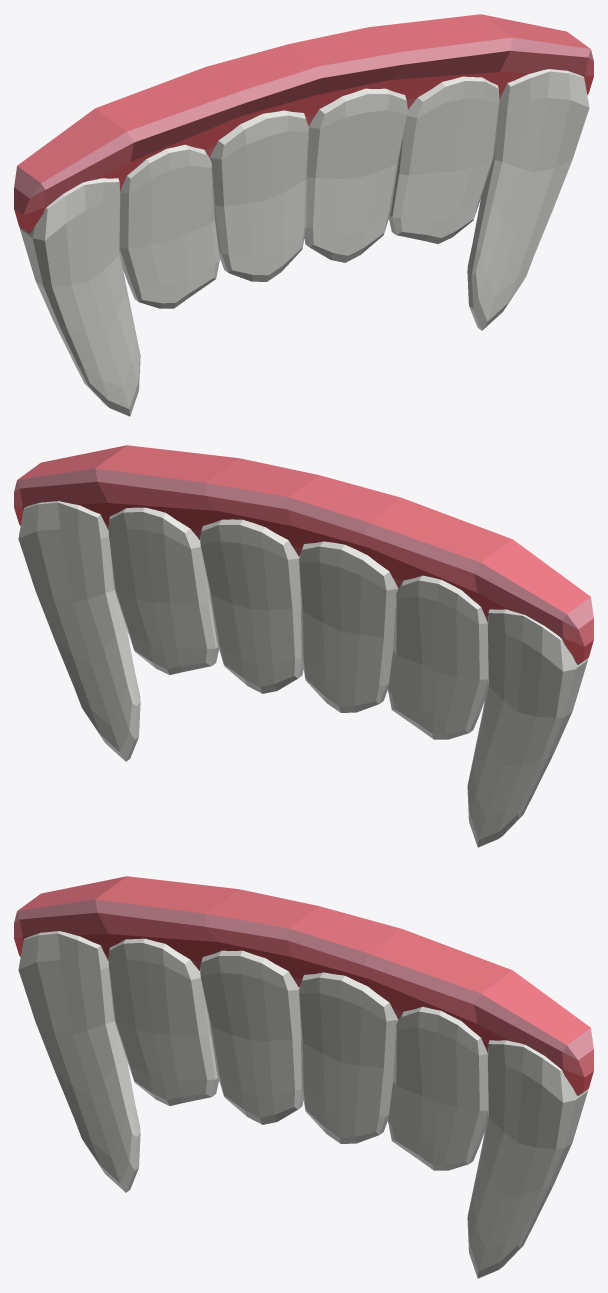
File: WF_LP_HT_Props_Candy.002.fbx
3 views of the same model, one above another, from view 1: azimuth 30°, elevation 25°; view 2: azimuth 150°, elevation 25°; view 3: azimuth 330°, elevation 25° (orthographic).
Parts seen in each view (by area): view 1: WF_LP_HT_Props_Candy.002; view 2: WF_LP_HT_Props_Candy.002; view 3: WF_LP_HT_Props_Candy.002.
Boxes of the visible parts, left/top/right/bottom form: WF_LP_HT_Props_Candy.002: left=14, top=14, right=593, bottom=416; WF_LP_HT_Props_Candy.002: left=14, top=445, right=593, bottom=847; WF_LP_HT_Props_Candy.002: left=14, top=876, right=593, bottom=1278.
Bounding box in the file's own units: 0.1724 × 0.0915 × 0.0203.
